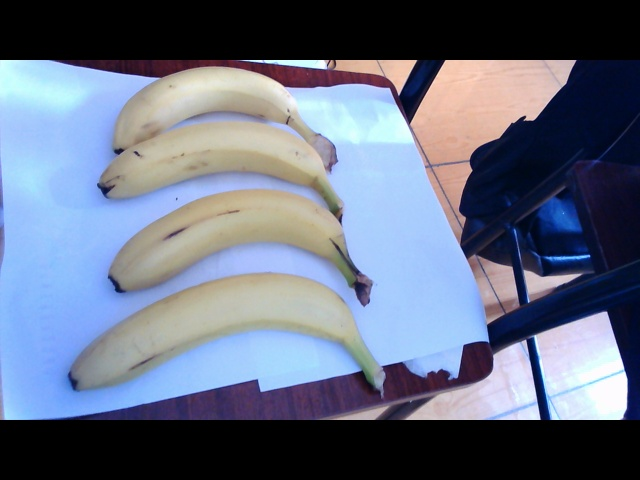banana: (36, 275, 401, 386), (91, 195, 388, 295), (92, 122, 345, 200), (98, 59, 326, 126)
